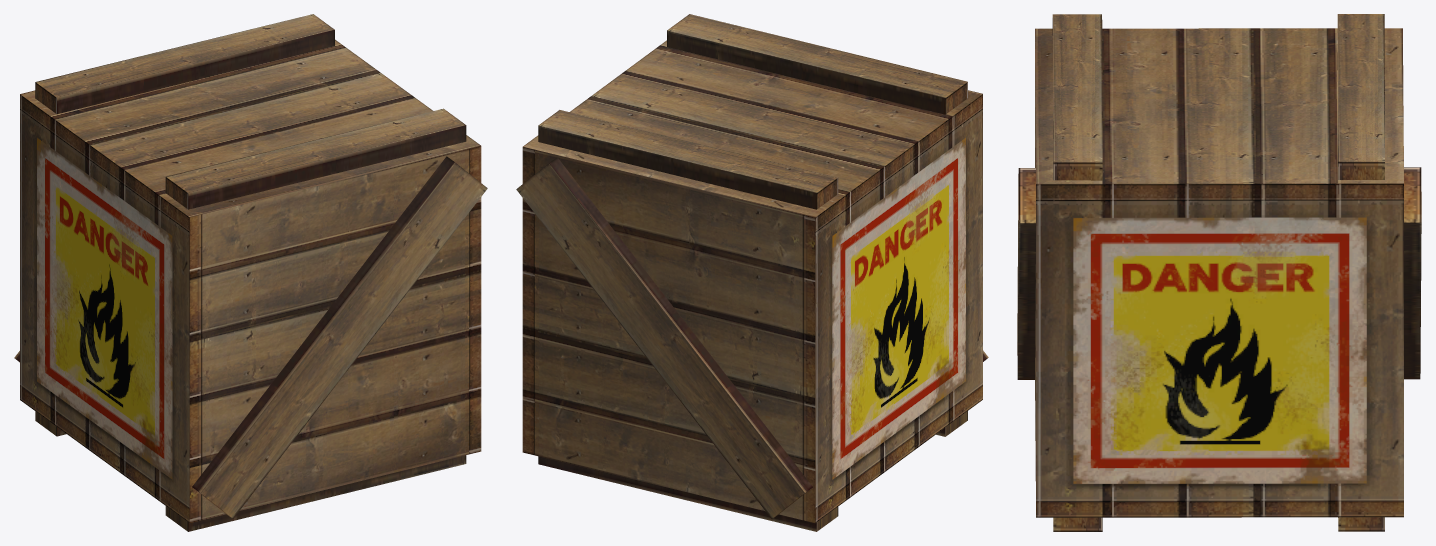
The model's file is DolPowderbox1.obj.
The picture shows the model from 3 angles, left to right: view 1: azimuth 30°, elevation 25°; view 2: azimuth 150°, elevation 25°; view 3: azimuth 270°, elevation 25°; orthographic projection. The views are drawn at different scales.
Parts seen in each view (by area): view 1: polygon0; view 2: polygon0; view 3: polygon0.
Boxes of the visible parts, bbox=[...] form: polygon0: bbox=[14, 14, 487, 531]; polygon0: bbox=[516, 14, 988, 531]; polygon0: bbox=[1017, 14, 1421, 531].
Size of the model in its own units: 8.04 by 8.88 by 8.8.
Materials: 1 (1 with a texture image).
